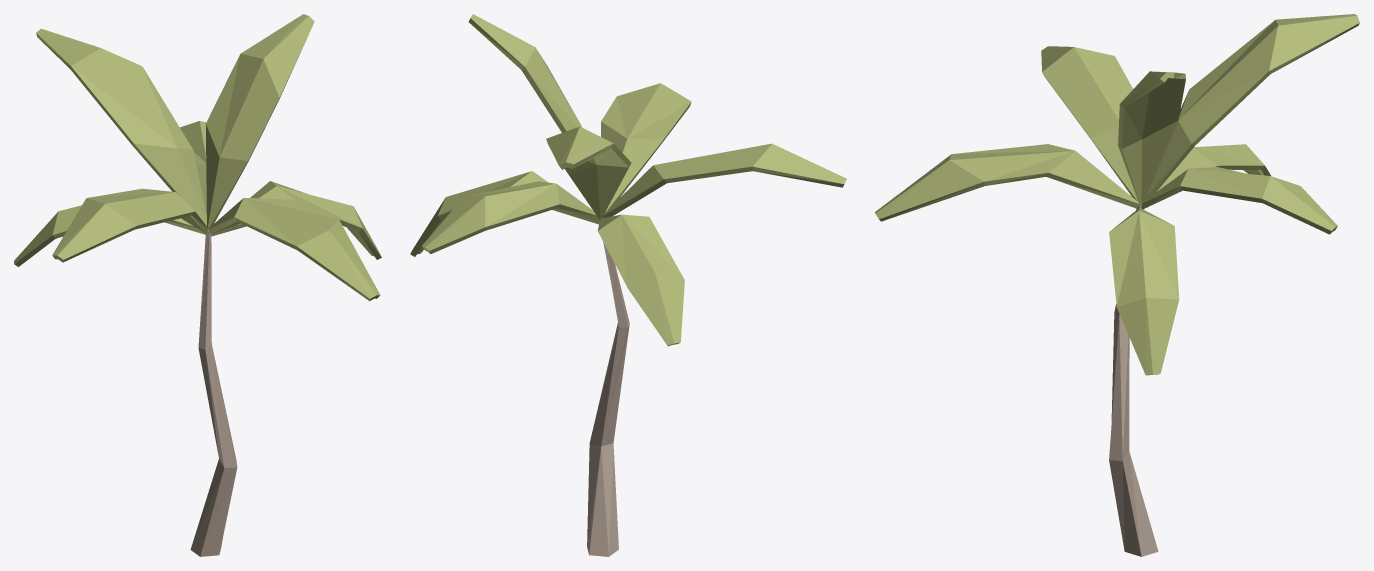
Rendered from AiphanesHorrida.glb.
The picture shows the model from 3 angles, left to right: view 1: azimuth 30°, elevation 25°; view 2: azimuth 150°, elevation 25°; view 3: azimuth 270°, elevation 25°; orthographic projection. The views are drawn at different scales.
Parts seen in each view (by area): view 1: Crown, Trunk; view 2: Crown, Trunk; view 3: Crown, Trunk.
Boxes of the visible parts, left/top/right/bottom form: Crown: left=14, top=14, right=381, bottom=301; Trunk: left=190, top=230, right=237, bottom=556; Crown: left=410, top=14, right=846, bottom=346; Trunk: left=587, top=218, right=629, bottom=556; Crown: left=875, top=14, right=1359, bottom=375; Trunk: left=1109, top=205, right=1158, bottom=556.
Bounding box in the file's own units: 7.79 × 9.96 × 8.16.
